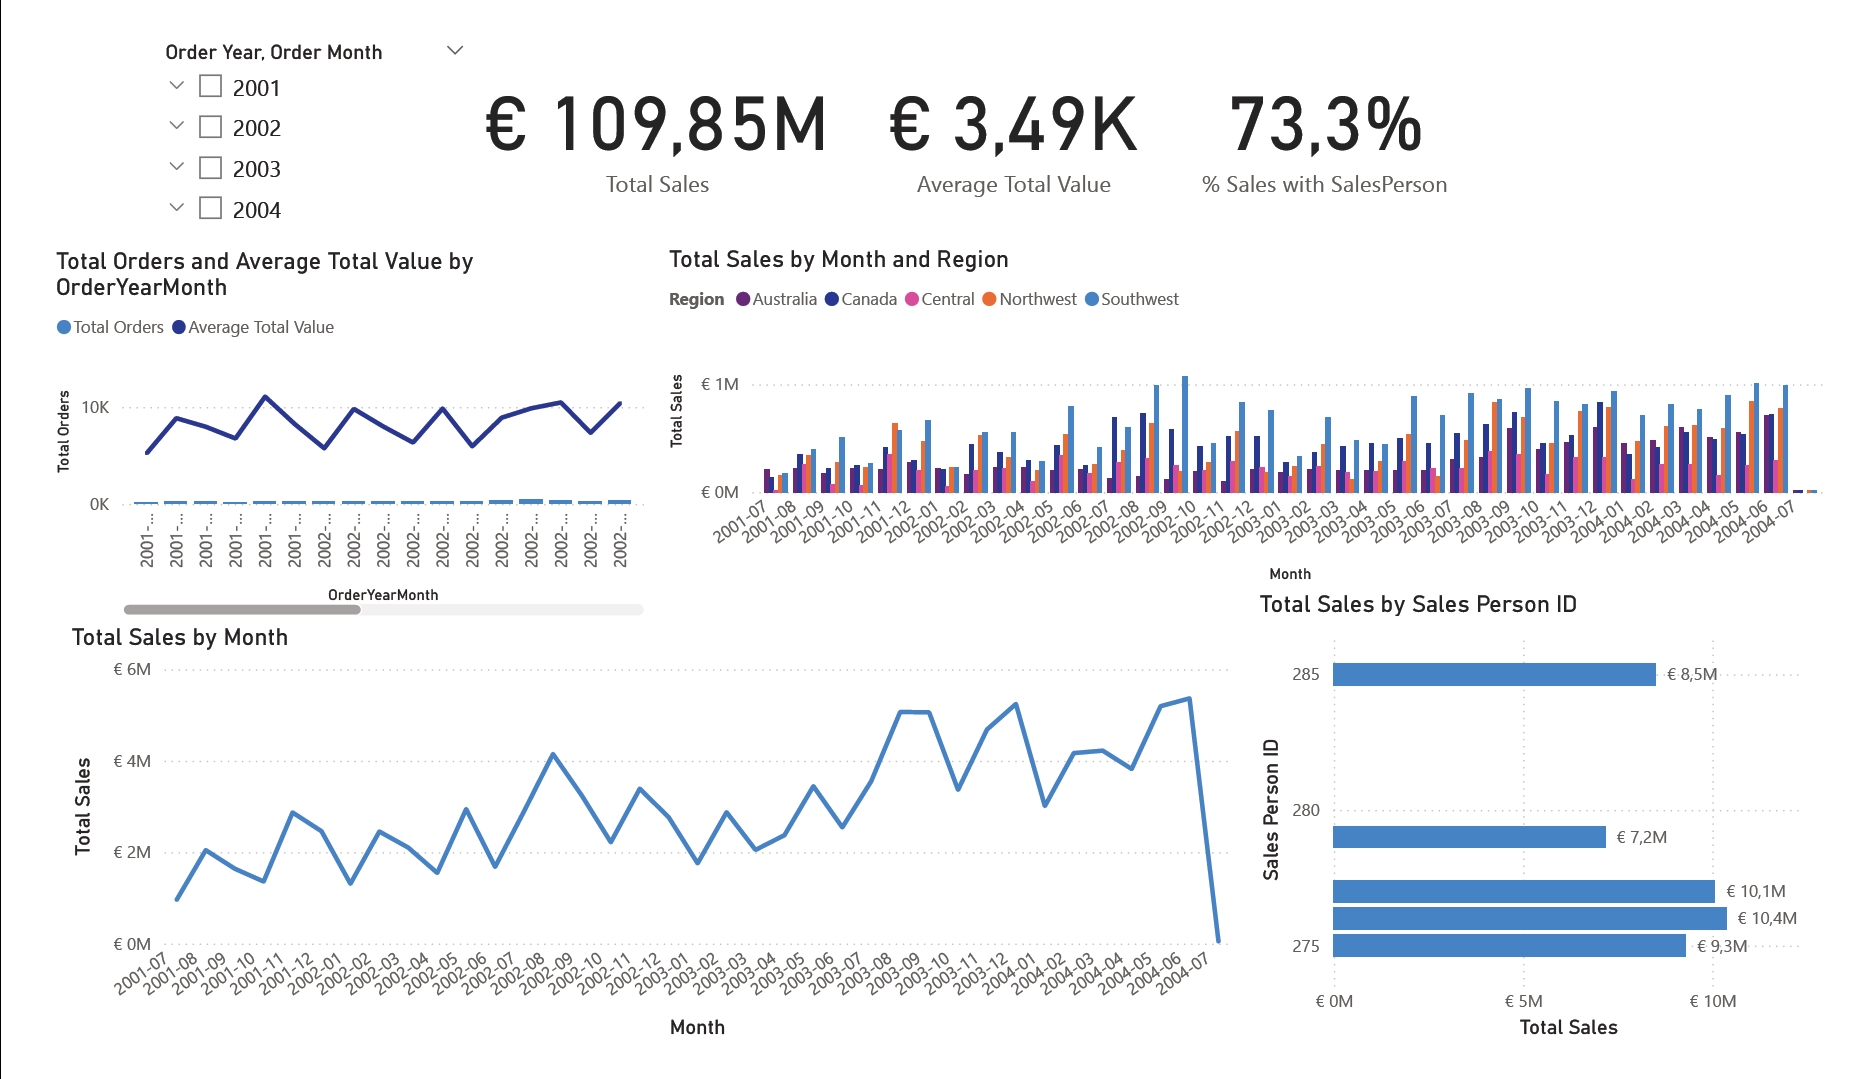

Layout of this report page (visuals, bound fields, positions):
{"tool":"powerbi","page":{"name":"analitical","canvas":[1280,720],"ordinal":3},"visuals":[{"type":"card","fields":{"Values":["Sales SalesOrderDetail.Total Sales"]},"box":[296.8,13.1,292.3,108.4],"z":0},{"type":"card","fields":{"Values":["Sales SalesOrderHeader.% Sales with SalesPerson"]},"box":[804.5,13.1,226.4,108.4],"z":1000},{"type":"card","fields":{"Values":["Sales SalesOrderDetail.Average Total Value"]},"box":[593.2,13.1,207.2,108.4],"z":2000},{"type":"lineChart","fields":{"Y":["Sum(Sales SalesOrderDetail.LineTotal)"],"Category":["Sales SalesOrderHeader.OrderYearMonth"]},"box":[20.6,418.5,834.3,301.9],"z":3000},{"type":"clusteredColumnChart","fields":{"Category":["Sales SalesOrderHeader.OrderYearMonth"],"Series":["Sales SalesTerritory.Name"],"Y":["Sales SalesOrderDetail.Total Sales"]},"box":[446,149.6,834.3,245.6],"z":3001},{"type":"clusteredBarChart","fields":{"Category":["Sales SalesOrderHeader.SalesPersonID"],"Y":["Sum(Sales SalesOrderDetail.LineTotal)"]},"box":[865.9,395.2,414.4,325.2],"z":3002},{"type":"lineClusteredColumnComboChart","fields":{"Category":["Sales SalesOrderHeader.OrderYearMonth"],"Y":["Sales SalesOrderHeader.Total Orders"],"Y2":["Sales SalesOrderDetail.Average Total Value"]},"box":[9.6,150.9,428.1,267.6],"z":3003},{"type":"slicer","fields":{"Values":["Sales SalesOrderHeader.OrderYear","Sales SalesOrderHeader.OrderMonth"]},"box":[80.4,-0.1,237.2,151.2],"z":3004}]}

Visuals, with their boxes in screenshot pixels (x1, y1, x2, y2), scaled from the page's 1280x720 canvas onto the 1868x1079 screenshot:
card - Sales SalesOrderDetail.Total Sales: box(433, 20, 860, 182)
card - Sales SalesOrderHeader.% Sales with SalesPerson: box(1174, 20, 1504, 182)
card - Sales SalesOrderDetail.Average Total Value: box(866, 20, 1168, 182)
lineChart - Sum(Sales SalesOrderDetail.LineTotal) x Sales SalesOrderHeader.OrderYearMonth: box(30, 627, 1248, 1078)
clusteredColumnChart - Sales SalesOrderHeader.OrderYearMonth x Sales SalesTerritory.Name: box(651, 224, 1867, 592)
clusteredBarChart - Sales SalesOrderHeader.SalesPersonID x Sum(Sales SalesOrderDetail.LineTotal): box(1264, 592, 1867, 1078)
lineClusteredColumnComboChart - Sales SalesOrderHeader.OrderYearMonth x Sales SalesOrderHeader.Total Orders: box(14, 226, 639, 627)
slicer - Sales SalesOrderHeader.OrderYear x Sales SalesOrderHeader.OrderMonth: box(117, 0, 463, 226)
